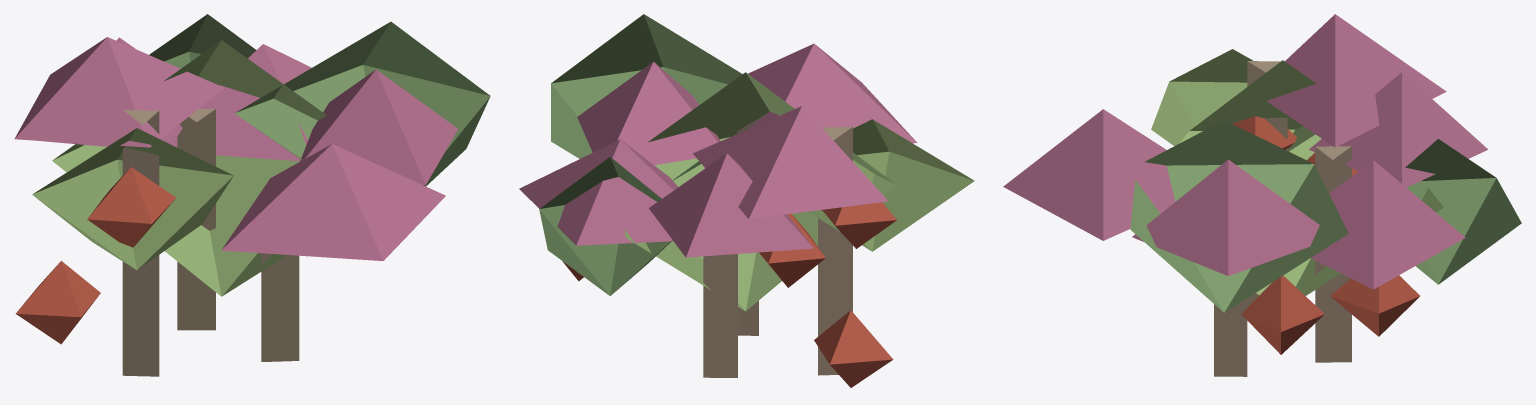
File: shrub.temp.blueberry__bloom.glb
3 views of the same model, side by side, from view 1: azimuth 30°, elevation 25°; view 2: azimuth 150°, elevation 25°; view 3: azimuth 270°, elevation 25° (orthographic). The views are drawn at different scales.
Visible parts, largest first — view 1: shrub.temp.blueberry__bloom; view 2: shrub.temp.blueberry__bloom; view 3: shrub.temp.blueberry__bloom.
Boxes of the visible parts, left/top/right/bottom form: shrub.temp.blueberry__bloom: left=14, top=14, right=490, bottom=376; shrub.temp.blueberry__bloom: left=519, top=14, right=974, bottom=387; shrub.temp.blueberry__bloom: left=1003, top=14, right=1521, bottom=376.
Bounding box in the file's own units: 1.27 × 0.9096 × 1.37.
